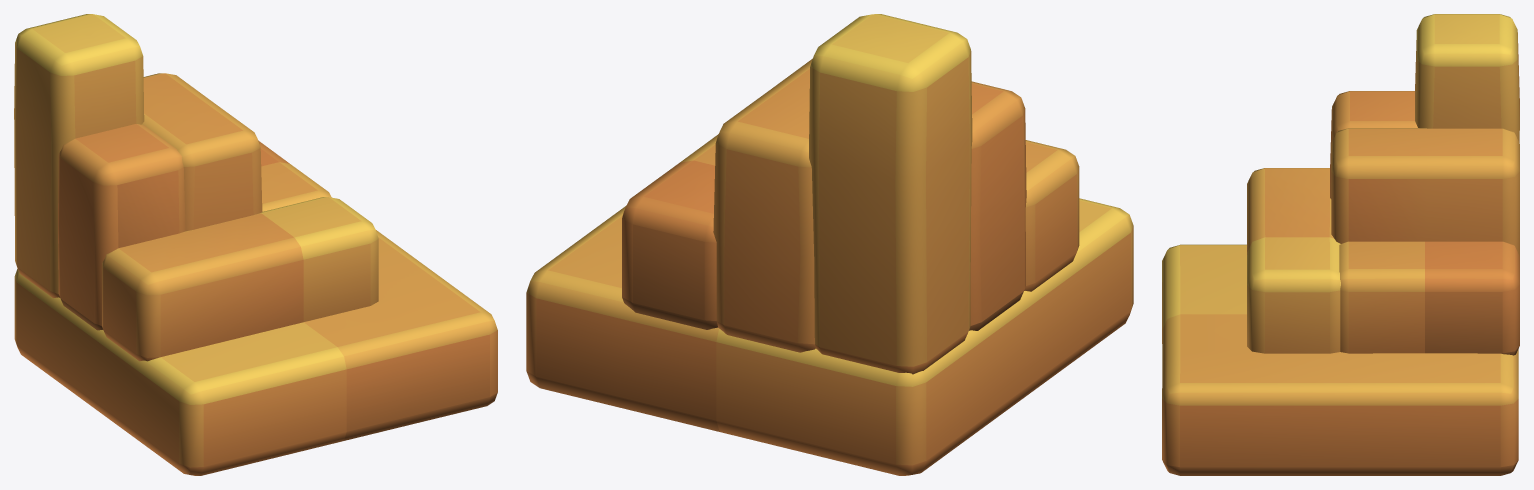
File: stair_corner_conv.fbx
3 views of the same model, side by side, from view 1: azimuth 30°, elevation 25°; view 2: azimuth 150°, elevation 25°; view 3: azimuth 270°, elevation 25° (orthographic). The views are drawn at different scales.
Visible parts, largest first — view 1: stair_corner_conv; view 2: stair_corner_conv; view 3: stair_corner_conv.
Part boxes in pixels (box(x1,y1,x2,y2)): stair_corner_conv: box(14, 14, 497, 475); stair_corner_conv: box(526, 14, 1133, 475); stair_corner_conv: box(1162, 14, 1519, 475).
Size of the model in its own units: 106 by 105 by 105.
